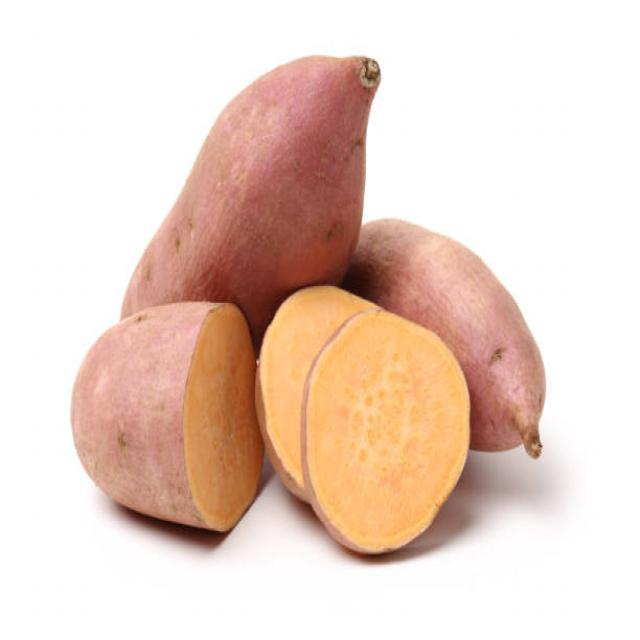Sweet Potato: (140, 52, 379, 288), (67, 300, 264, 536), (304, 308, 470, 560), (469, 256, 549, 469)
